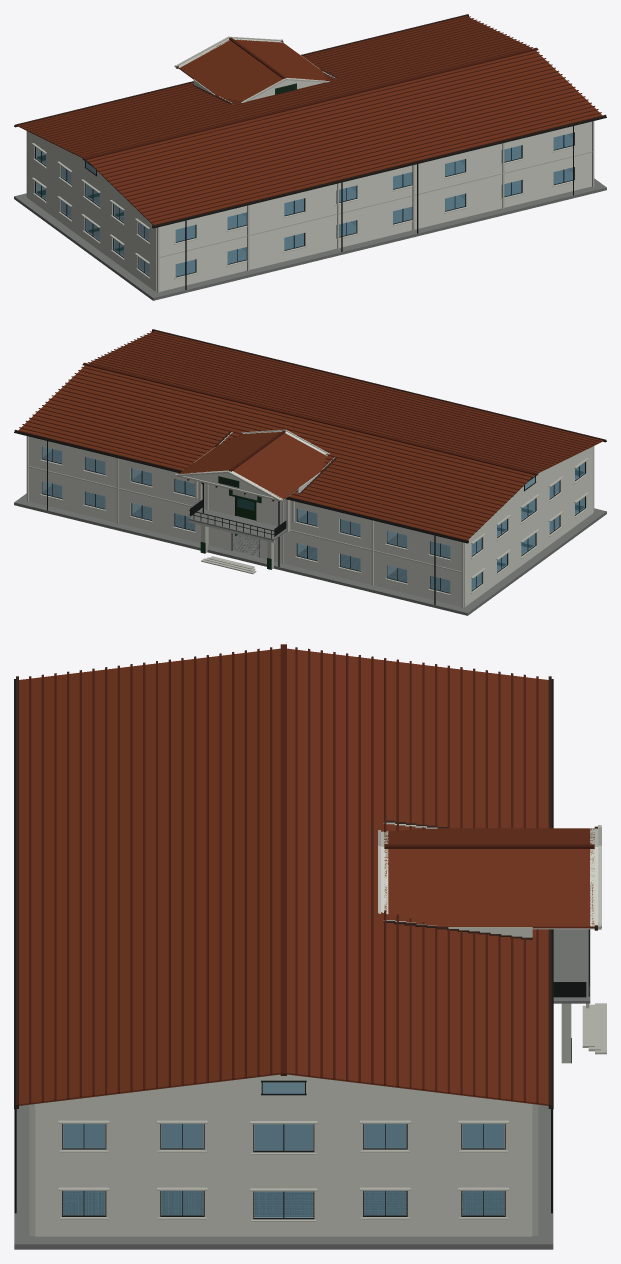
File: BlocoInstrucao_V13.obj
3 views of the same model, one above another, from view 1: azimuth 30°, elevation 25°; view 2: azimuth 150°, elevation 25°; view 3: azimuth 270°, elevation 25° (orthographic). The views are drawn at different scales.
Visible parts, largest first — view 1: MainRoofBack, MainRoofFront, Foundation, CrossRoofLeft, CrossRoofRight, MainRidgeCap, BackFascia, A1_BackRoom2_Top, A1_BackRoom3_Top, A1_BackRoom4_Top, A1_BackRoom1_Top, A1_BackRoom2_Bottom (+74 smaller); view 2: MainRoofFront, MainRoofBack, Foundation, CrossRoofLeft, CrossRoofRight, MainRidgeCap, BalconySlab, V13_SecondFloor_Left, BackFascia, FrontFascia, A1_FrontRoom1_Top, A1_FrontRoom2_Top (+71 smaller); view 3: MainRoofBack, MainRoofFront, CrossRoofRight, Foundation, V11_GableRight, V13_SecondFloor_Right, GroundFloor, V11_R_A1_Front_Top, V11_R_A2_Front_Top, V11_R_A1_Back_Top, V11_R_A2_Back_Top, V11_R_A2_Front_Bottom (+71 smaller).
Boxes of the visible parts, box(x1,y1,x2,y2) form: MainRoofBack: box(87, 50, 602, 224); MainRoofFront: box(17, 16, 532, 158); Foundation: box(14, 169, 606, 300); CrossRoofLeft: box(178, 40, 282, 101); CrossRoofRight: box(234, 39, 327, 80); MainRidgeCap: box(82, 47, 538, 160); BackFascia: box(152, 114, 606, 227); A1_BackRoom2_Top: box(266, 205, 375, 241); A1_BackRoom3_Top: box(375, 179, 483, 215); A1_BackRoom4_Top: box(484, 152, 591, 188); A1_BackRoom1_Top: box(159, 232, 266, 268); A1_BackRoom2_Bottom: box(266, 229, 375, 265); MainRoofFront: box(18, 365, 533, 539); MainRoofBack: box(88, 331, 603, 473); Foundation: box(14, 484, 606, 615); CrossRoofLeft: box(233, 433, 327, 499); CrossRoofRight: box(179, 431, 280, 473); MainRidgeCap: box(82, 362, 538, 475); BalconySlab: box(189, 508, 286, 540); V13_SecondFloor_Left: box(298, 475, 578, 557); BackFascia: box(152, 329, 606, 442); FrontFascia: box(14, 429, 468, 542); A1_FrontRoom1_Top: box(374, 552, 461, 583); A1_FrontRoom2_Top: box(284, 531, 371, 561); MainRoofBack: box(19, 648, 280, 1105); MainRoofFront: box(287, 648, 548, 1105); CrossRoofRight: box(384, 849, 594, 928); Foundation: box(14, 1104, 553, 1249); V11_GableRight: box(48, 1074, 519, 1102); V13_SecondFloor_Right: box(62, 1124, 504, 1150); GroundFloor: box(62, 1191, 504, 1217); V11_R_A1_Front_Top: box(336, 1169, 532, 1190); V11_R_A2_Front_Top: box(336, 1102, 532, 1123); V11_R_A1_Back_Top: box(35, 1169, 230, 1190); V11_R_A2_Back_Top: box(35, 1102, 230, 1123); V11_R_A2_Front_Bottom: box(336, 1148, 532, 1169).
Size of the model in its own units: 192 by 39.63 by 112.
